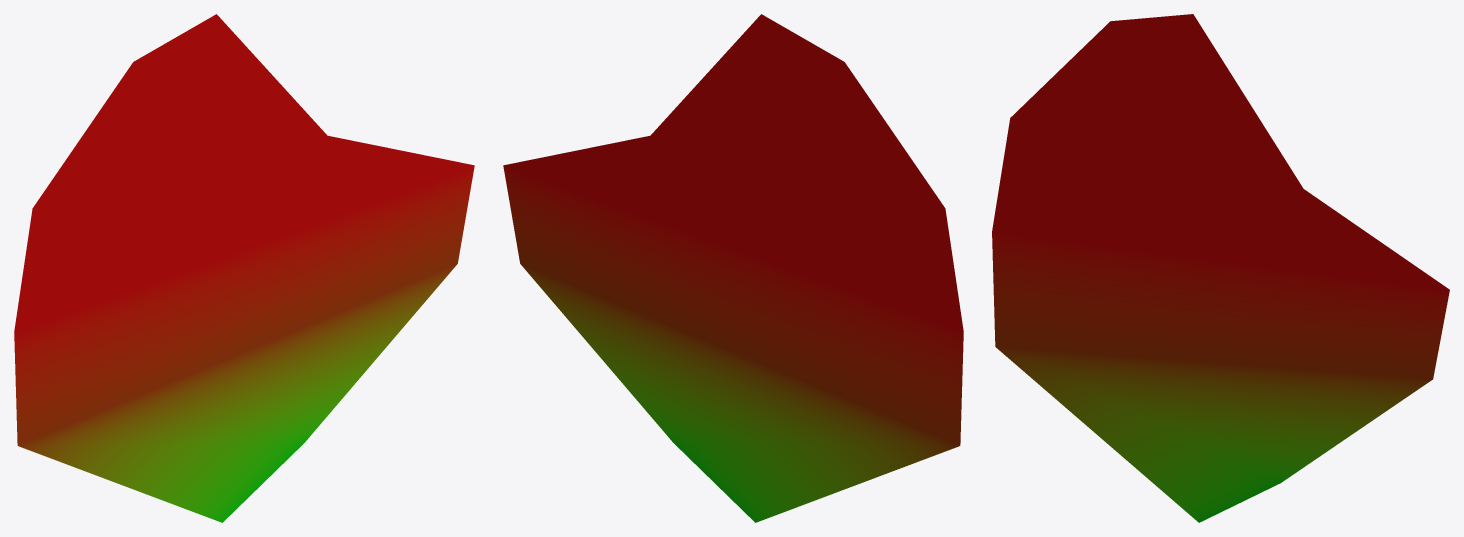
Rendered from Var2_LOD4.fbx.
The picture shows the model from 3 angles, left to right: view 1: azimuth 30°, elevation 25°; view 2: azimuth 150°, elevation 25°; view 3: azimuth 330°, elevation 25°; orthographic projection.
Visible parts, largest first — view 1: _hs1k_Var2_LOD4; view 2: _hs1k_Var2_LOD4; view 3: _hs1k_Var2_LOD4.
Part boxes in pixels (x1,y1,x2,y2): _hs1k_Var2_LOD4: (14, 14, 474, 522); _hs1k_Var2_LOD4: (503, 14, 963, 522); _hs1k_Var2_LOD4: (992, 14, 1449, 522).
Size of the model in its own units: 38.27 by 40.53 by 2.7e-06.
